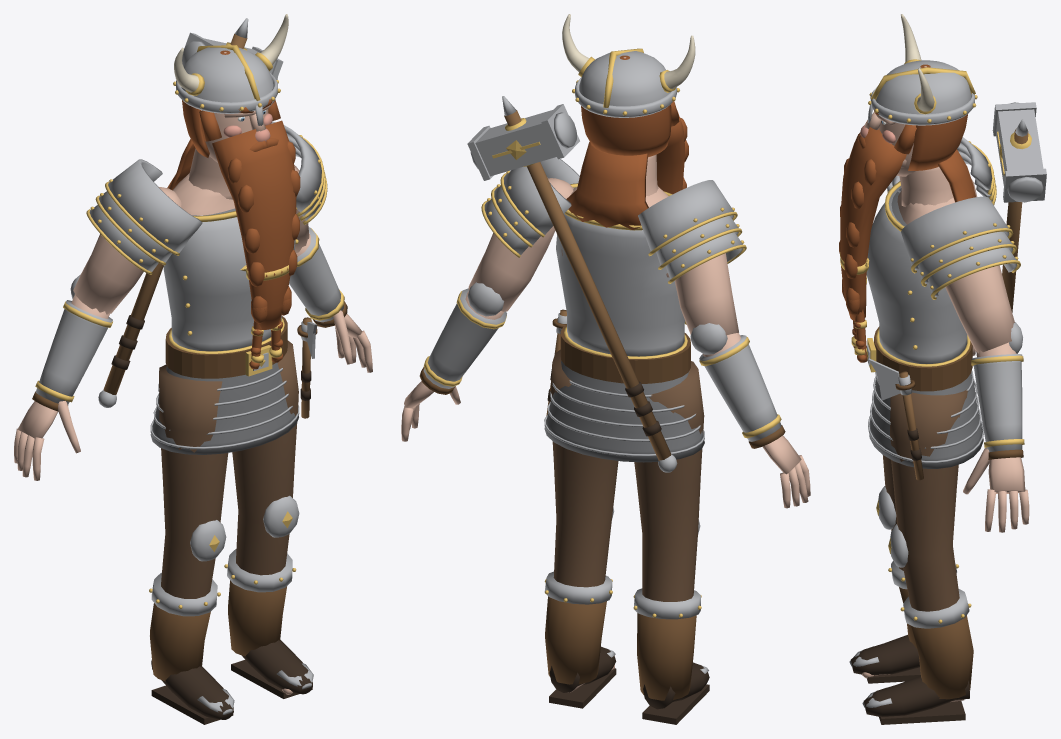
3 views of the same model, side by side, from view 1: azimuth 30°, elevation 25°; view 2: azimuth 150°, elevation 25°; view 3: azimuth 270°, elevation 25° (orthographic). The views are drawn at different scales.
Parts seen in each view (by area): view 1: khazrum__OW_Armor_DwarvenForge_01_Legs, khazrum__OW_Armor_DwarvenForge_01_Chest, khazrum__OW_Char_Dwarf_01_Body_Head, khazrum__OW_Armor_DwarvenForge_01_Feet, khazrum__OW_Armor_DwarvenForge_01_Shoulders, khazrum__OW_Armor_DwarvenForge_01_Arms, khazrum__OW_Armor_DwarvenForge_01_Head, khazrum__OW_Char_Dwarf_01_Body_Hands, khazrum__OW_Char_Dwarf_01_Body_Arms, khazrum__OW_Armor_DwarvenForge_01_Back, khazrum__OW_Char_Dwarf_01_Body_Torso, khazrum__OW_Armor_DwarvenForge_01_Weapon_Hip; view 2: khazrum__OW_Armor_DwarvenForge_01_Chest, khazrum__OW_Armor_DwarvenForge_01_Legs, khazrum__OW_Armor_DwarvenForge_01_Feet, khazrum__OW_Armor_DwarvenForge_01_Shoulders, khazrum__OW_Char_Dwarf_01_Body_Head, khazrum__OW_Armor_DwarvenForge_01_Arms, khazrum__OW_Armor_DwarvenForge_01_Back, khazrum__OW_Char_Dwarf_01_Body_Arms, khazrum__OW_Armor_DwarvenForge_01_Head, khazrum__OW_Char_Dwarf_01_Body_Hands; view 3: khazrum__OW_Armor_DwarvenForge_01_Chest, khazrum__OW_Char_Dwarf_01_Body_Head, khazrum__OW_Armor_DwarvenForge_01_Legs, khazrum__OW_Armor_DwarvenForge_01_Feet, khazrum__OW_Armor_DwarvenForge_01_Shoulders, khazrum__OW_Armor_DwarvenForge_01_Head, khazrum__OW_Armor_DwarvenForge_01_Back, khazrum__OW_Armor_DwarvenForge_01_Arms, khazrum__OW_Char_Dwarf_01_Body_Arms, khazrum__OW_Char_Dwarf_01_Body_Hands, khazrum__OW_Armor_DwarvenForge_01_Weapon_Hip, khazrum__OW_Char_Dwarf_01_Body_Torso.
Part boxes in pixels (x1,y1,x2,y2): khazrum__OW_Armor_DwarvenForge_01_Legs: (159, 340, 299, 598); khazrum__OW_Armor_DwarvenForge_01_Chest: (150, 207, 299, 454); khazrum__OW_Char_Dwarf_01_Body_Head: (167, 50, 300, 369); khazrum__OW_Armor_DwarvenForge_01_Feet: (149, 548, 313, 724); khazrum__OW_Armor_DwarvenForge_01_Shoulders: (86, 121, 327, 274); khazrum__OW_Armor_DwarvenForge_01_Arms: (32, 227, 347, 411); khazrum__OW_Armor_DwarvenForge_01_Head: (173, 14, 288, 125); khazrum__OW_Char_Dwarf_01_Body_Hands: (14, 310, 372, 480); khazrum__OW_Char_Dwarf_01_Body_Arms: (71, 165, 310, 318); khazrum__OW_Armor_DwarvenForge_01_Back: (98, 18, 283, 407); khazrum__OW_Char_Dwarf_01_Body_Torso: (172, 173, 234, 215); khazrum__OW_Armor_DwarvenForge_01_Weapon_Hip: (297, 317, 317, 418); khazrum__OW_Armor_DwarvenForge_01_Chest: (544, 183, 704, 462); khazrum__OW_Armor_DwarvenForge_01_Legs: (550, 349, 704, 601); khazrum__OW_Armor_DwarvenForge_01_Feet: (544, 571, 709, 724); khazrum__OW_Armor_DwarvenForge_01_Shoulders: (481, 157, 746, 283); khazrum__OW_Char_Dwarf_01_Body_Head: (566, 55, 688, 230); khazrum__OW_Armor_DwarvenForge_01_Arms: (419, 282, 785, 448); khazrum__OW_Armor_DwarvenForge_01_Back: (467, 96, 677, 472); khazrum__OW_Char_Dwarf_01_Body_Arms: (465, 177, 740, 356); khazrum__OW_Armor_DwarvenForge_01_Head: (562, 14, 695, 117); khazrum__OW_Char_Dwarf_01_Body_Hands: (401, 381, 810, 508); khazrum__OW_Armor_DwarvenForge_01_Chest: (865, 181, 983, 468); khazrum__OW_Char_Dwarf_01_Body_Head: (839, 64, 975, 362); khazrum__OW_Armor_DwarvenForge_01_Legs: (876, 389, 967, 611); khazrum__OW_Armor_DwarvenForge_01_Feet: (849, 560, 973, 724); khazrum__OW_Armor_DwarvenForge_01_Shoulders: (887, 137, 1020, 299); khazrum__OW_Armor_DwarvenForge_01_Head: (867, 14, 977, 125); khazrum__OW_Armor_DwarvenForge_01_Back: (992, 102, 1046, 312); khazrum__OW_Armor_DwarvenForge_01_Arms: (971, 322, 1024, 459); khazrum__OW_Char_Dwarf_01_Body_Arms: (945, 179, 1016, 357); khazrum__OW_Char_Dwarf_01_Body_Hands: (963, 345, 1029, 532); khazrum__OW_Armor_DwarvenForge_01_Weapon_Hip: (868, 358, 923, 480); khazrum__OW_Char_Dwarf_01_Body_Torso: (897, 191, 954, 224).
Bounding box in the file's own units: 0.833 × 1.42 × 0.4087.
